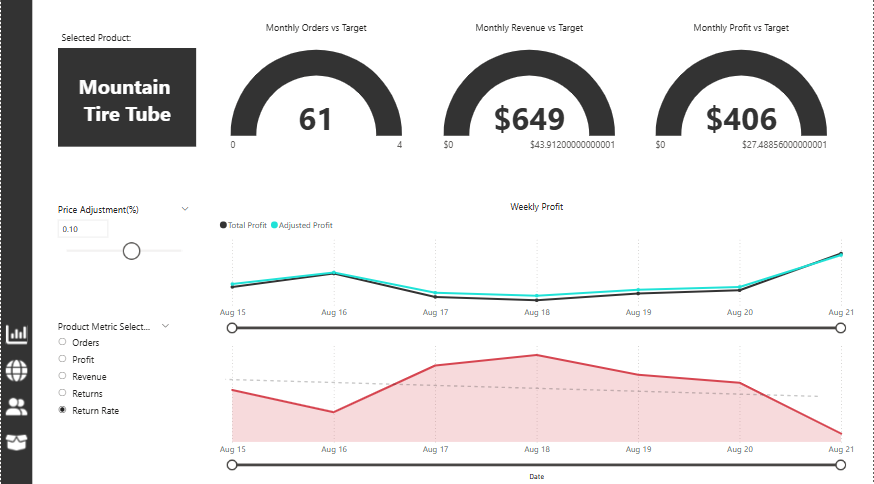

The dashboard page shown, as its layout file describes it:
{"tool":"powerbi","page":{"name":"Product Details","canvas":[1280,720],"ordinal":3},"visuals":[{"type":"shape","box":[0,0,46.1,720],"z":0},{"type":"gauge","title":"Monthly Orders vs Target","fields":{"Y":["Measure Table.Total Orders"],"MaxValue":["Measure Table.Order Target"]},"box":[332.2,39.7,262.3,220.9],"z":1000},{"type":"gauge","title":"Monthly Revenue vs Target","fields":{"Y":["Measure Table.Total Revenue"],"MaxValue":["Measure Table.Revenue Target"]},"box":[644.5,39.7,262.3,220.9],"z":2000},{"type":"gauge","title":"Monthly Profit vs Target","fields":{"Y":["Measure Table.Total Profit"],"MaxValue":["Measure Table.Profit Target"]},"box":[956.8,39.7,262.3,220.9],"z":3000},{"type":"lineChart","title":"Weekly Profit","fields":{"Category":["Calendar Lookup.Start of Year Hierarchy.Start of Year","Calendar Lookup.Start of Year Hierarchy.Start of Month","Calendar Lookup.Start of Year Hierarchy.Start of Week","Calendar Lookup.Start of Year Hierarchy.Date"],"Y":["Measure Table.Total Profit"],"Y2":["Measure Table.Adjusted Profit"]},"box":[316.3,302,942.5,216.2],"z":4000},{"type":"areaChart","title":"Weekly Returns","fields":{"Y":["Measure Table.Return Rate"],"Category":["Calendar Lookup.Start of Year Hierarchy.Start of Year","Calendar Lookup.Start of Year Hierarchy.Start of Month","Calendar Lookup.Start of Year Hierarchy.Start of Week","Calendar Lookup.Start of Year Hierarchy.Date"]},"box":[316.3,503.8,942.5,216.2],"z":5000},{"type":"card","fields":{"Values":["Min(Product Lookup.ProductName)"]},"box":[84.2,79.5,203.4,144.6],"z":6000},{"type":"textbox","box":[84.2,49.3,152.6,30.2],"z":7000},{"type":"actionButton","box":[2.6,475.2,39.7,52.5],"z":8000},{"type":"actionButton","box":[2.6,580.1,39.7,52.5],"z":9000},{"type":"actionButton","box":[2.6,632.6,39.7,52.5],"z":10000},{"type":"actionButton","box":[2.6,527.7,39.7,52.5],"z":11000},{"type":"slicer","fields":{"Values":["Price Adjustment(%).Price Adjustment(%)"]},"box":[69.9,302,217.7,173.2],"z":12000},{"type":"slicer","fields":{"Values":["Product Metric Selection.Product Metric Selection"]},"box":[69.9,475.2,189.1,184.4],"z":13000}]}

Visuals, with their boxes on the page's 1280x720 design canvas (x1, y1, x2, y2). These are canvas units, not pixel positions in the 874x484 screenshot, which may show the page scaled, cropped or inside an application window:
shape: (left=0, top=0, right=46, bottom=720)
"Monthly Orders vs Target" gauge: (left=332, top=40, right=594, bottom=261)
"Monthly Revenue vs Target" gauge: (left=644, top=40, right=907, bottom=261)
"Monthly Profit vs Target" gauge: (left=957, top=40, right=1219, bottom=261)
"Weekly Profit" lineChart: (left=316, top=302, right=1259, bottom=518)
"Weekly Returns" areaChart: (left=316, top=504, right=1259, bottom=720)
card - Min(Product Lookup.ProductName): (left=84, top=80, right=288, bottom=224)
textbox: (left=84, top=49, right=237, bottom=80)
actionButton: (left=3, top=475, right=42, bottom=528)
actionButton: (left=3, top=580, right=42, bottom=633)
actionButton: (left=3, top=633, right=42, bottom=685)
actionButton: (left=3, top=528, right=42, bottom=580)
slicer - Price Adjustment(%).Price Adjustment(%): (left=70, top=302, right=288, bottom=475)
slicer - Product Metric Selection.Product Metric Selection: (left=70, top=475, right=259, bottom=660)
